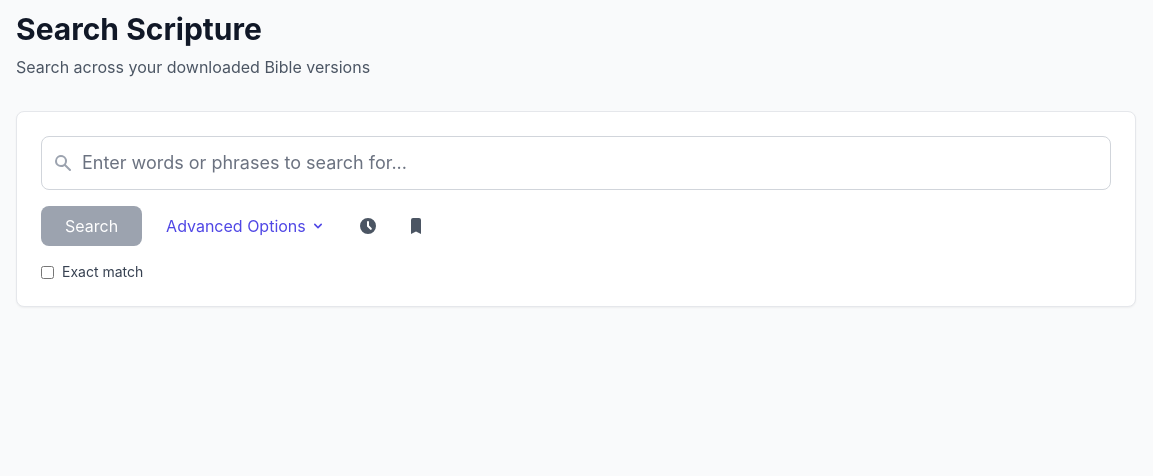
Test: SearchView › search history › should toggle search history visibility
This screenshot has width=1153, height=476.
Click the button titled "Search History" at (368, 226), box [350,208,386,244]
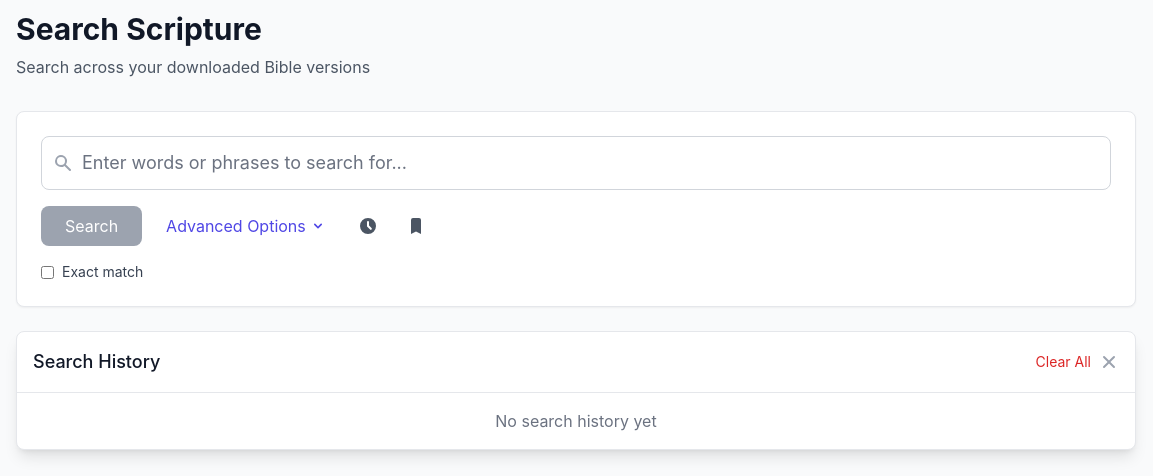
Check: the text "Search History" is shown, box [33,348,160,376]
